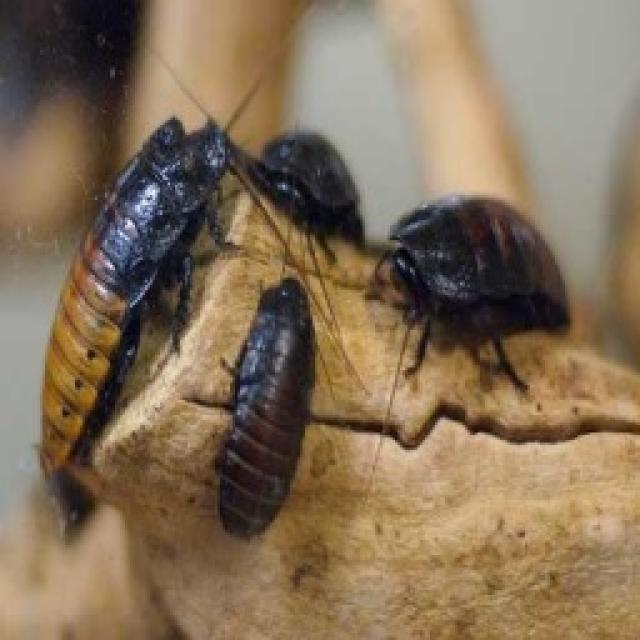cockroach: (0, 81, 270, 487), (184, 255, 350, 579), (349, 168, 595, 368), (239, 93, 367, 254)
